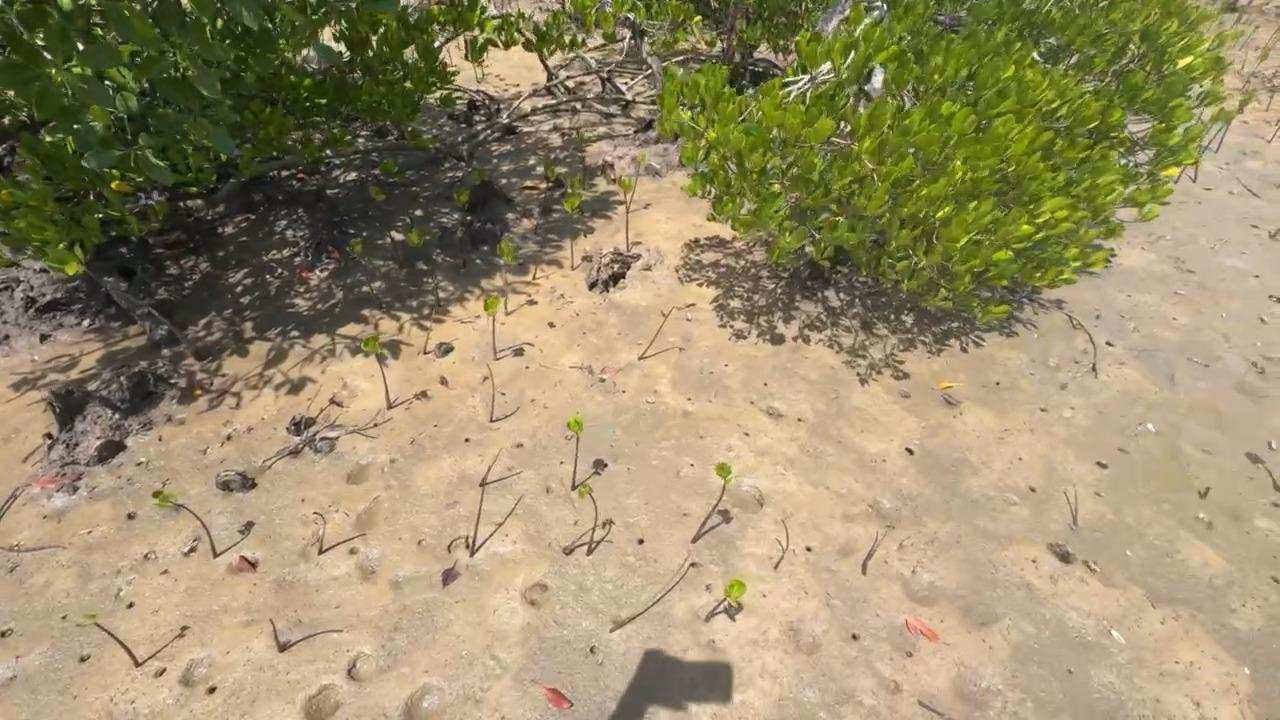Tree: (691, 464, 766, 543), (151, 488, 217, 558), (639, 303, 697, 360), (75, 614, 138, 665), (617, 151, 646, 251), (407, 228, 442, 305), (562, 174, 590, 270), (360, 333, 394, 407), (347, 237, 382, 308), (368, 186, 399, 251), (497, 233, 519, 316), (578, 482, 600, 555), (534, 164, 556, 234), (469, 478, 487, 557), (483, 294, 501, 359), (566, 414, 581, 491), (269, 617, 292, 653), (480, 447, 501, 484), (485, 362, 495, 420), (313, 511, 326, 554), (424, 305, 434, 352)
